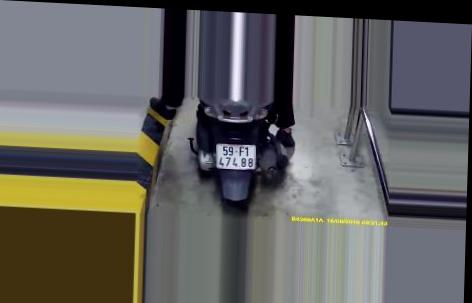License_Plate: (208, 140, 259, 175)
